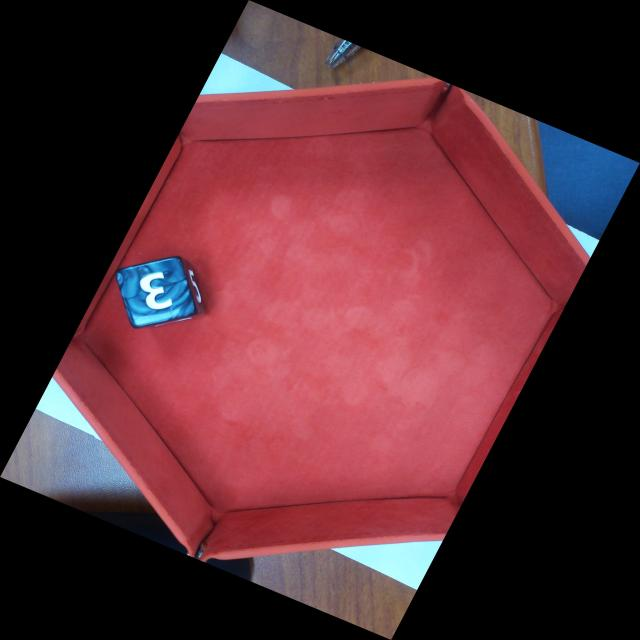dice: (117, 257, 199, 327)
